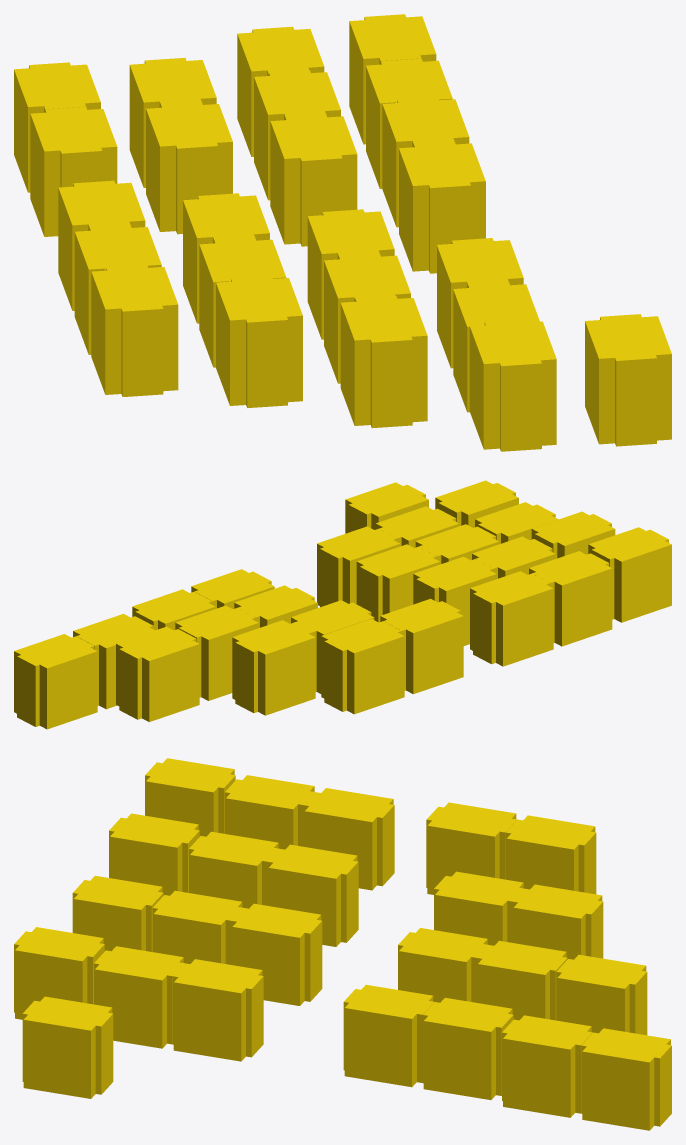
Rendered from Dummy_LaFortuna_Inventario.fbx.
3 views of the same model, one above another, from view 1: azimuth 30°, elevation 25°; view 2: azimuth 150°, elevation 25°; view 3: azimuth 270°, elevation 25° (orthographic). The views are drawn at different scales.
Visible parts, largest first — view 1: Cube_8, Cube_1, Cube_14, Cube, Cube_4, Cube_11, Cube_19, Cube__1__19, Cube_17, Cube__1__8, Cube_22, Cube__1__1 (+32 smaller); view 2: Cube_18, Cube_23, Cube_13, Cube_21, Cube_7, Cube_22, Cube_20, Cube_19, Cube_12, Cube_16, Cube_3, Cube__1__7 (+33 smaller); view 3: Cube_3, Cube_5, Cube_7, Cube, Cube_6, Cube_4, Cube_2, Cube_10, Cube_22, Cube_16, Cube_1, Cube_21 (+36 smaller).
Part boxes in pixels (x1=…): Cube_8: x1=340, y1=298, x2=427, y2=425; Cube_1: x1=469, y1=321, x2=556, y2=449; Cube_14: x1=216, y1=278, x2=302, y2=405; Cube: x1=585, y1=316, x2=671, y2=444; Cube_4: x1=399, y1=143, x2=485, y2=271; Cube_11: x1=270, y1=116, x2=357, y2=244; Cube_19: x1=91, y1=267, x2=178, y2=394; Cube__1__19: x1=106, y1=264, x2=163, y2=396; Cube_17: x1=146, y1=104, x2=232, y2=231; Cube__1__8: x1=355, y1=295, x2=412, y2=428; Cube_22: x1=30, y1=109, x2=117, y2=236; Cube__1__1: x1=484, y1=319, x2=541, y2=451; Cube_18: x1=232, y1=620, x2=315, y2=715; Cube_23: x1=321, y1=619, x2=404, y2=714; Cube_13: x1=116, y1=626, x2=199, y2=721; Cube_21: x1=470, y1=571, x2=553, y2=666; Cube_7: x1=14, y1=634, x2=97, y2=729; Cube_22: x1=380, y1=598, x2=463, y2=694; Cube_20: x1=529, y1=551, x2=612, y2=646; Cube_19: x1=588, y1=527, x2=671, y2=622; Cube_12: x1=175, y1=605, x2=258, y2=700; Cube_16: x1=413, y1=556, x2=496, y2=645; Cube_3: x1=317, y1=526, x2=400, y2=605; Cube__1__7: x1=17, y1=636, x2=94, y2=726; Cube_3: x1=173, y1=959, x2=262, y2=1061; Cube_5: x1=423, y1=997, x2=512, y2=1099; Cube_7: x1=582, y1=1028, x2=670, y2=1130; Cube: x1=23, y1=996, x2=112, y2=1098; Cube_6: x1=503, y1=1015, x2=591, y2=1117; Cube_4: x1=344, y1=984, x2=433, y2=1087; Cube_2: x1=95, y1=946, x2=183, y2=1048; Cube_10: x1=232, y1=903, x2=321, y2=1005; Cube_22: x1=427, y1=802, x2=516, y2=894; Cube_16: x1=268, y1=844, x2=357, y2=946; Cube_1: x1=15, y1=927, x2=103, y2=1019; Cube_21: x1=304, y1=788, x2=393, y2=890.
Bounding box in the file's own units: 13356 × 3738 × 15396.
